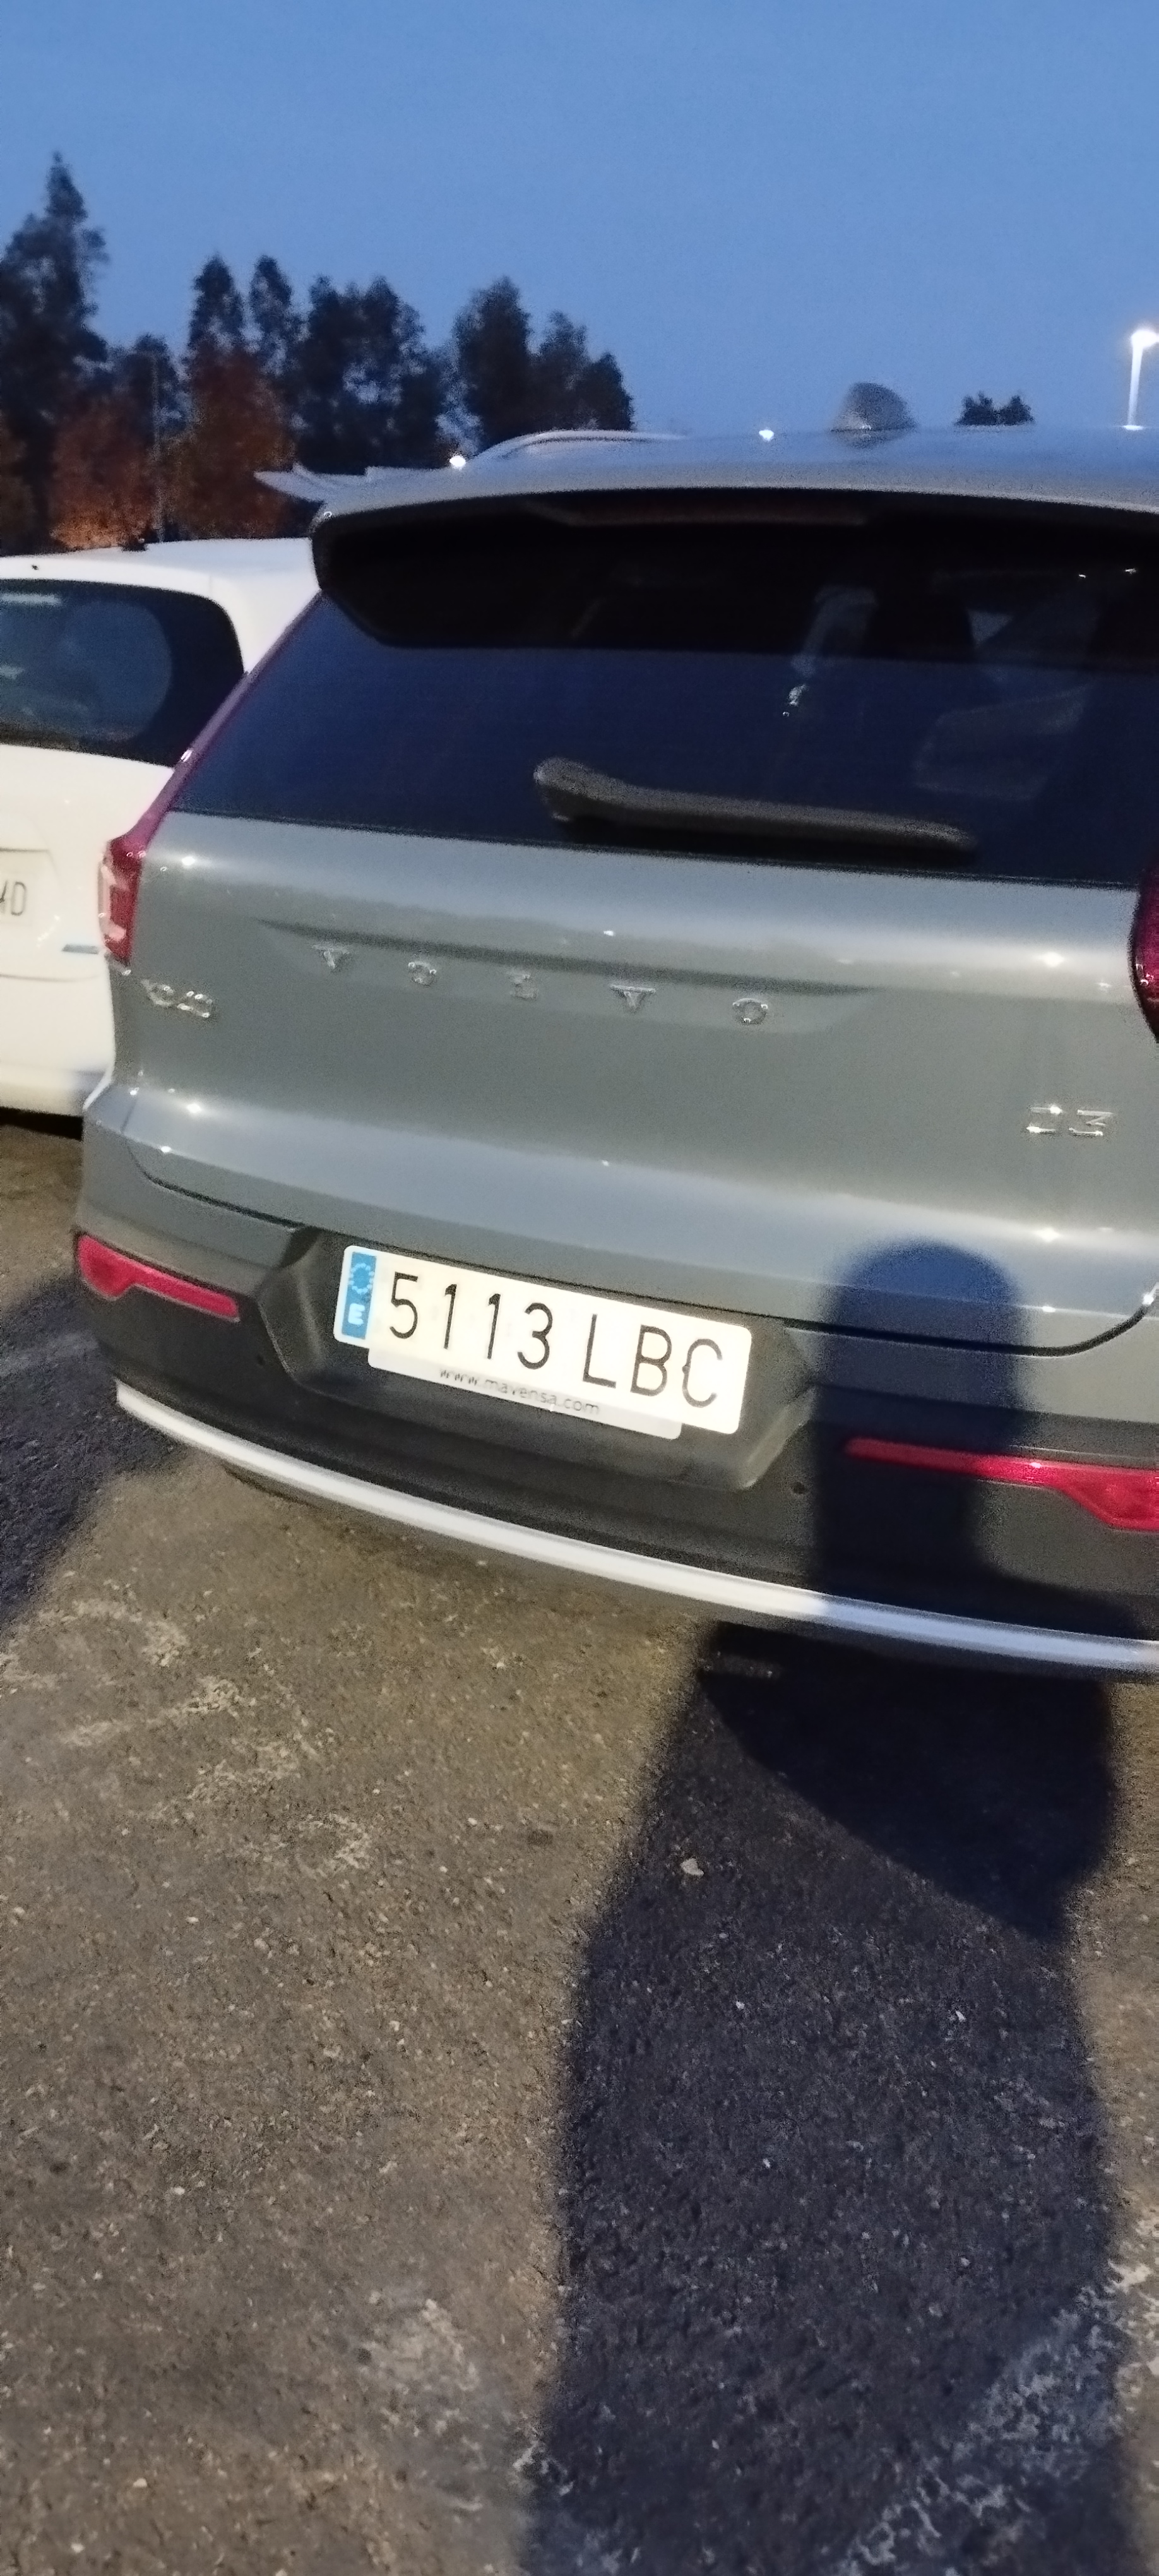Car: (68, 436, 1158, 1692)
Plate: (342, 1236, 771, 1365)
